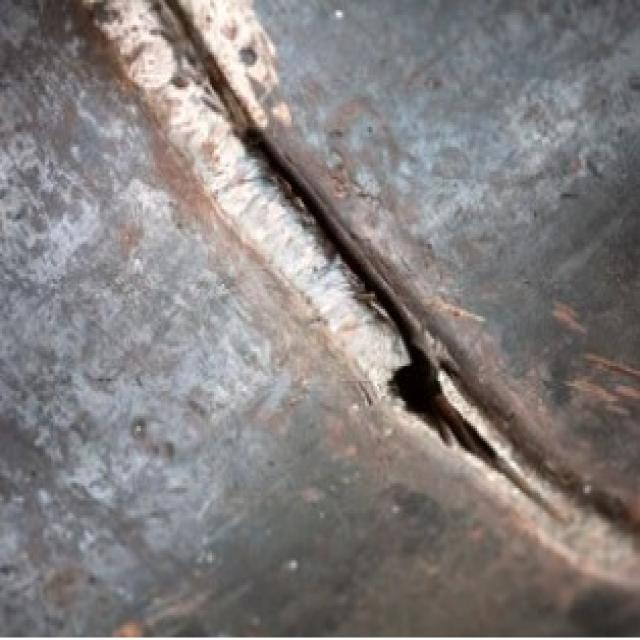Crack: (94, 10, 639, 581)
